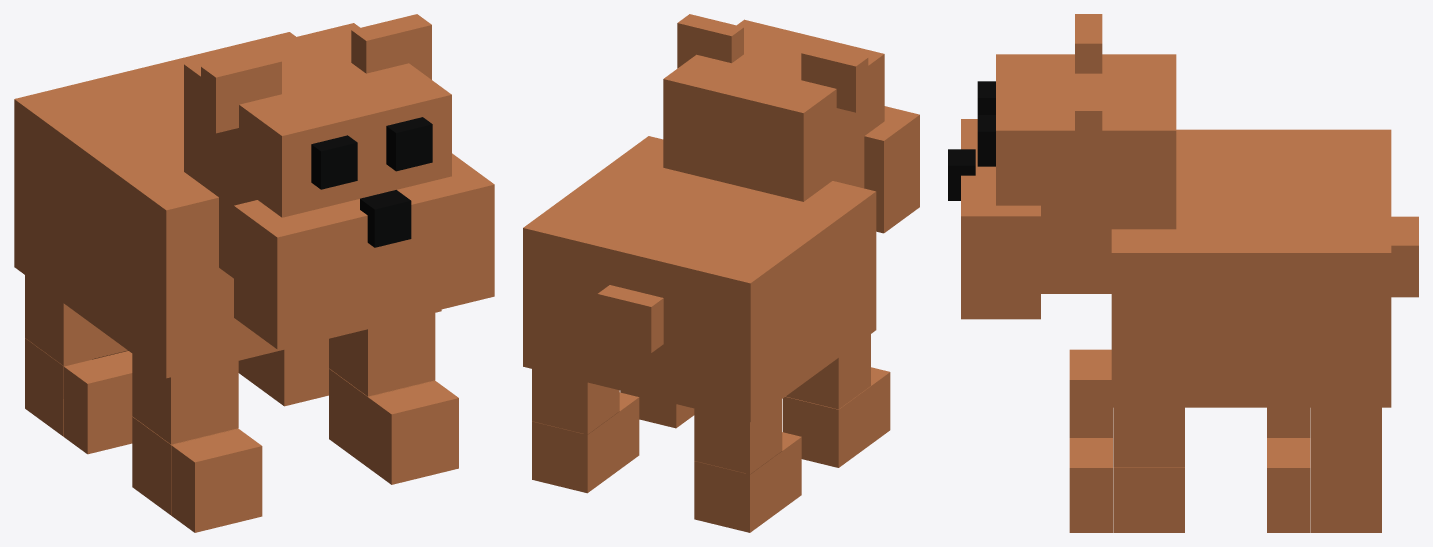
The picture shows the model from 3 angles, left to right: view 1: azimuth 30°, elevation 25°; view 2: azimuth 150°, elevation 25°; view 3: azimuth 270°, elevation 25°; orthographic projection. The views are drawn at different scales.
Visible parts, largest first — view 1: Bear; view 2: Bear; view 3: Bear.
Part boxes in pixels (box(x1,y1,x2,y2)): Bear: box(14, 14, 494, 532); Bear: box(523, 14, 919, 532); Bear: box(948, 14, 1418, 532).
Bounding box in the file's own units: 0.9465 × 1.47 × 1.52.
Materials: 1 (1 with a texture image).
